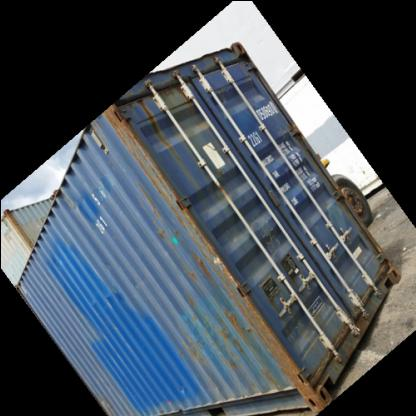Damage: (164, 198, 252, 298), (101, 99, 171, 210), (250, 289, 315, 396), (174, 295, 260, 375), (141, 209, 183, 251)
